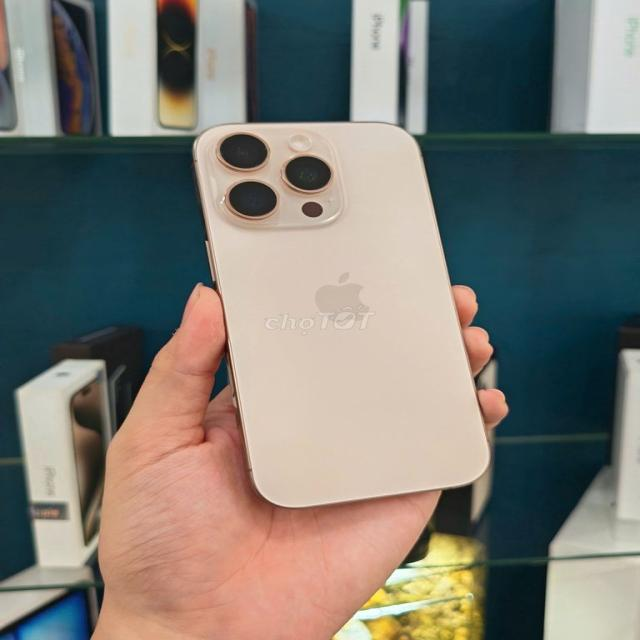gen_16: (194, 122, 489, 508)
